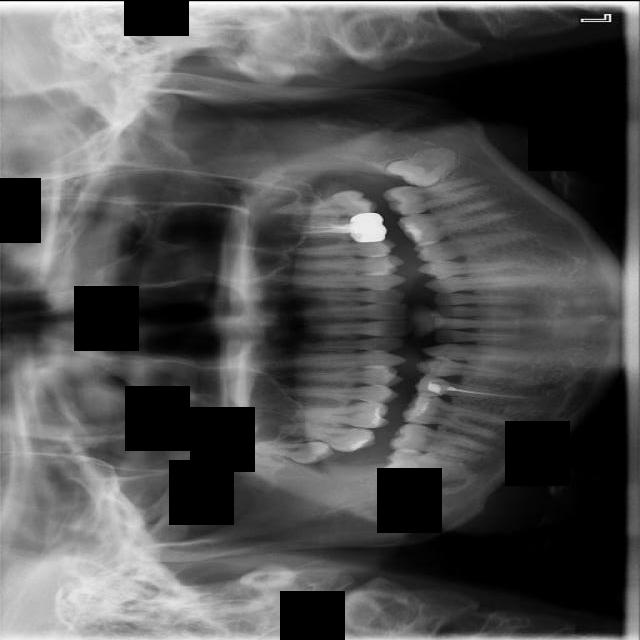3M ESPE Implant: (247, 439, 336, 464)
52: (397, 207, 445, 249), (401, 388, 445, 427), (346, 210, 389, 244), (413, 370, 449, 399)
73: (442, 380, 530, 408), (275, 214, 357, 242)
BioHorizons Implant: (273, 190, 378, 216)
Biomet 3i Implant: (384, 134, 464, 200)
Blue Sky Bio Implant: (382, 174, 489, 218)
Caries: (276, 420, 378, 454)
Implant: (387, 419, 495, 462)
Keystone Dental Implant: (382, 446, 476, 481)
